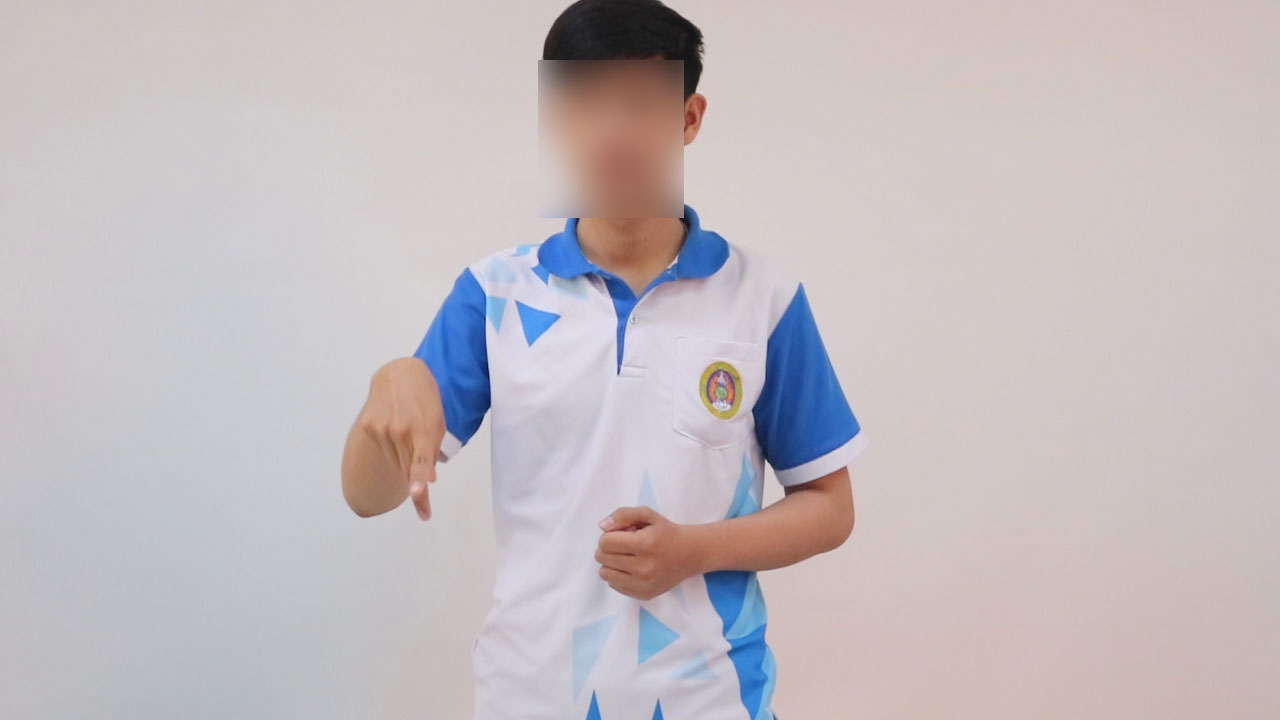por: (357, 337, 463, 535)
